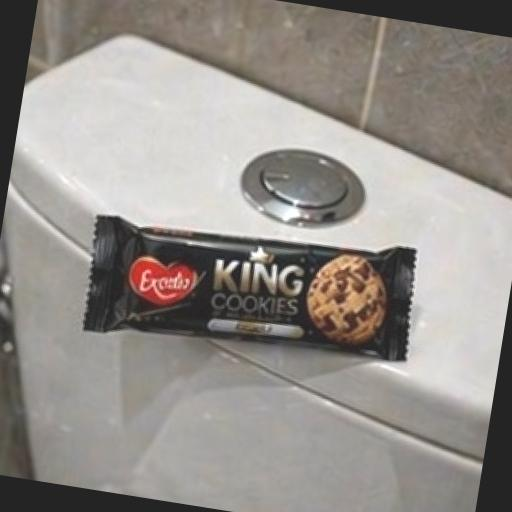king-cooking: (51, 158, 502, 432)
